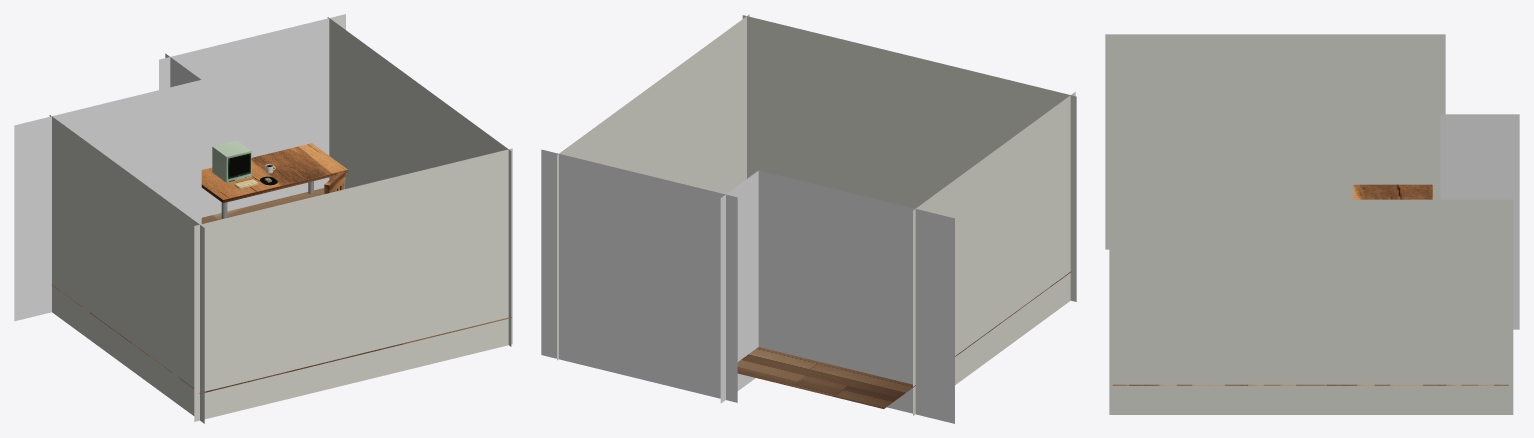
Rendered from room.gltf.
The picture shows the model from 3 angles, left to right: view 1: azimuth 30°, elevation 25°; view 2: azimuth 150°, elevation 25°; view 3: azimuth 270°, elevation 25°; orthographic projection. The views are drawn at different scales.
Parts seen in each view (by area): view 1: Plane.003, Plane.002, Plane.005, Plane.001, Plane, Table, Floor, Computer, Plane.004; view 2: Plane.001, Plane.003, Plane.005, Plane.002, Plane, Plane.004, Floor; view 3: Plane, Plane.002, Plane.004, Table.004, Floor.
Boxes of the visible parts, box(x1,y1,x2,y2) form: Plane.003: box(194, 148, 512, 421); Plane.002: box(49, 115, 204, 423); Plane.005: box(14, 80, 201, 321); Plane.001: box(159, 14, 345, 217); Plane: box(327, 17, 511, 346); Table: box(201, 143, 347, 203); Floor: box(51, 188, 511, 393); Computer: box(212, 140, 251, 182); Plane.004: box(165, 53, 200, 87); Plane.001: box(541, 149, 737, 402); Plane.003: box(742, 15, 1076, 301); Plane.005: box(758, 170, 954, 423); Plane.002: box(913, 92, 1075, 415); Plane: box(557, 14, 749, 360); Plane.004: box(720, 171, 758, 403); Floor: box(737, 271, 1071, 408); Plane: box(1109, 199, 1513, 414); Plane.002: box(1105, 34, 1445, 249); Plane.004: box(1440, 114, 1519, 329); Table.004: box(1353, 184, 1432, 199); Floor: box(1112, 384, 1508, 385).
Bounding box in the file's own units: 11.64 × 6 × 10.47.
Materials: 14 (9 with a texture image).
